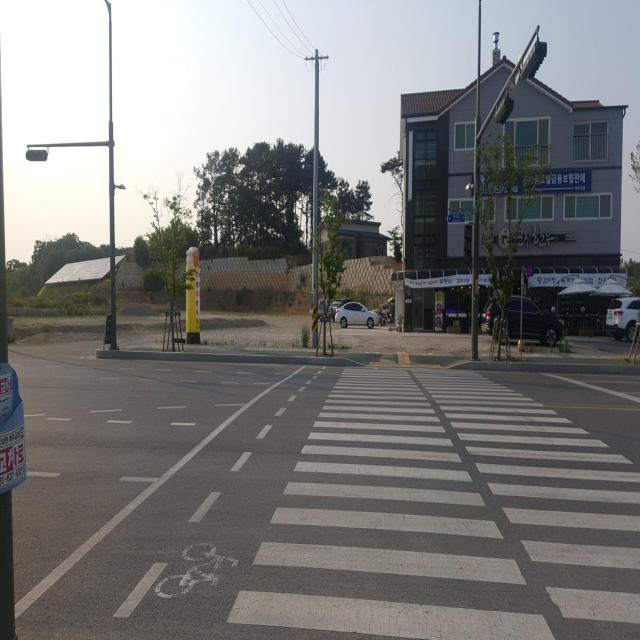횡단보도: (225, 368, 640, 640)
